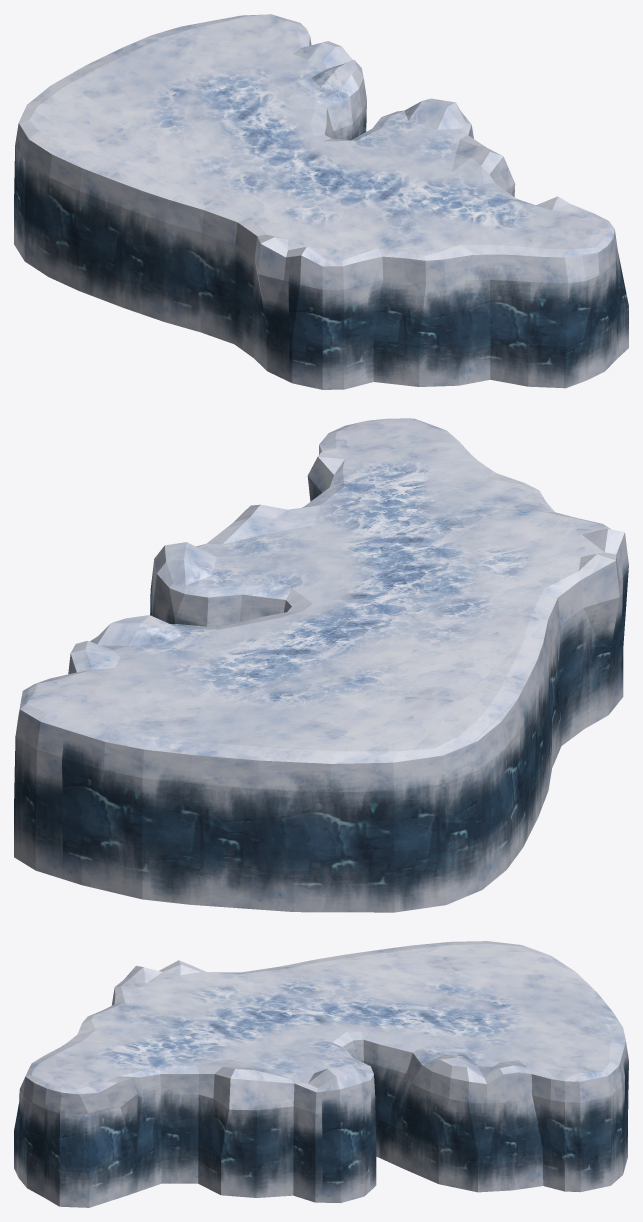
The model's file is Ice_ground02.FBX.
3 renders of one model, top to bottom at view 1: azimuth 30°, elevation 25°; view 2: azimuth 150°, elevation 25°; view 3: azimuth 270°, elevation 25°, orthographic. The views are drawn at different scales.
Visible parts, largest first — view 1: Line002; view 2: Line002; view 3: Line002.
Boxes of the visible parts, left/top/right/bottom form: Line002: left=14, top=14, right=628, bottom=389; Line002: left=14, top=418, right=628, bottom=912; Line002: left=14, top=941, right=628, bottom=1207.
Bounding box in the file's own units: 1780 × 645 × 2889.
